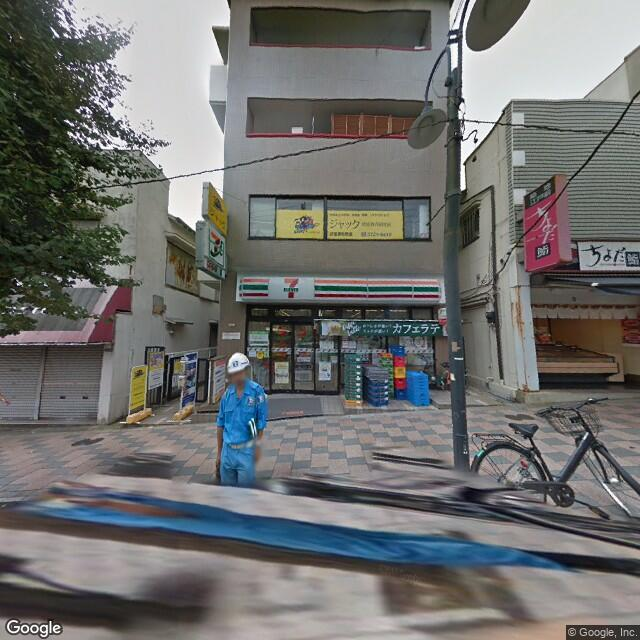7-eleven: (235, 267, 442, 309), (204, 222, 228, 265)
